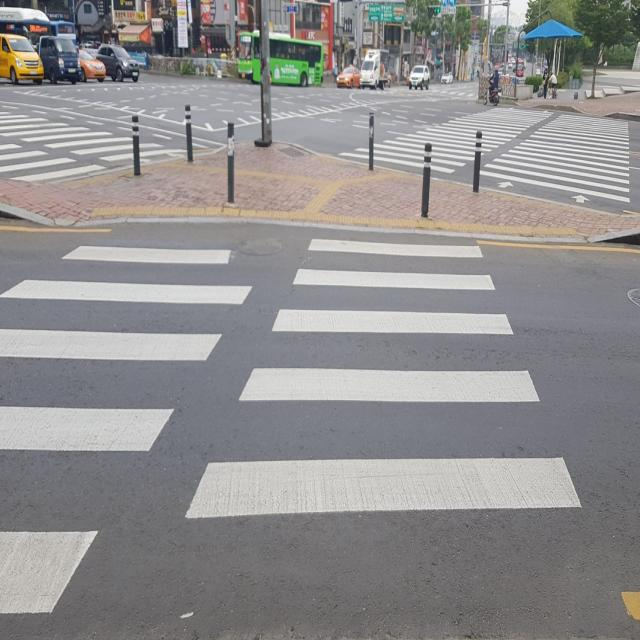횡단보도: (2, 234, 585, 627), (341, 107, 640, 206), (0, 111, 196, 183)
